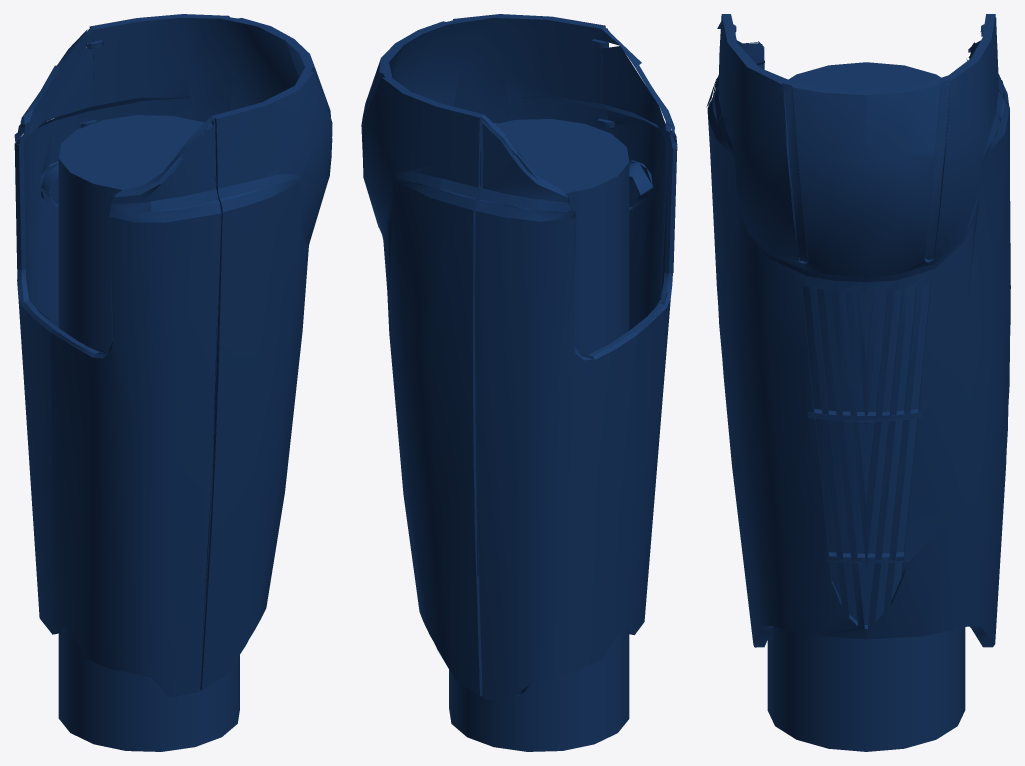
The model's file is icub_r_shank.dae.
3 views of the same model, side by side, from view 1: azimuth 30°, elevation 25°; view 2: azimuth 150°, elevation 25°; view 3: azimuth 270°, elevation 25° (orthographic). The views are drawn at different scales.
Parts seen in each view (by area): view 1: r_lowerleg_mesh, r_shank_cyl_mesh; view 2: r_lowerleg_mesh, r_shank_cyl_mesh; view 3: r_lowerleg_mesh, r_shank_cyl_mesh.
Part boxes in pixels (bbox=[...]): r_lowerleg_mesh: bbox=[14, 14, 332, 696]; r_shank_cyl_mesh: bbox=[58, 115, 239, 751]; r_lowerleg_mesh: bbox=[361, 14, 677, 702]; r_shank_cyl_mesh: bbox=[449, 119, 629, 751]; r_lowerleg_mesh: bbox=[706, 14, 1010, 647]; r_shank_cyl_mesh: bbox=[767, 62, 965, 751].
Bounding box in the file's own units: 0.1035 × 0.2446 × 0.097.
